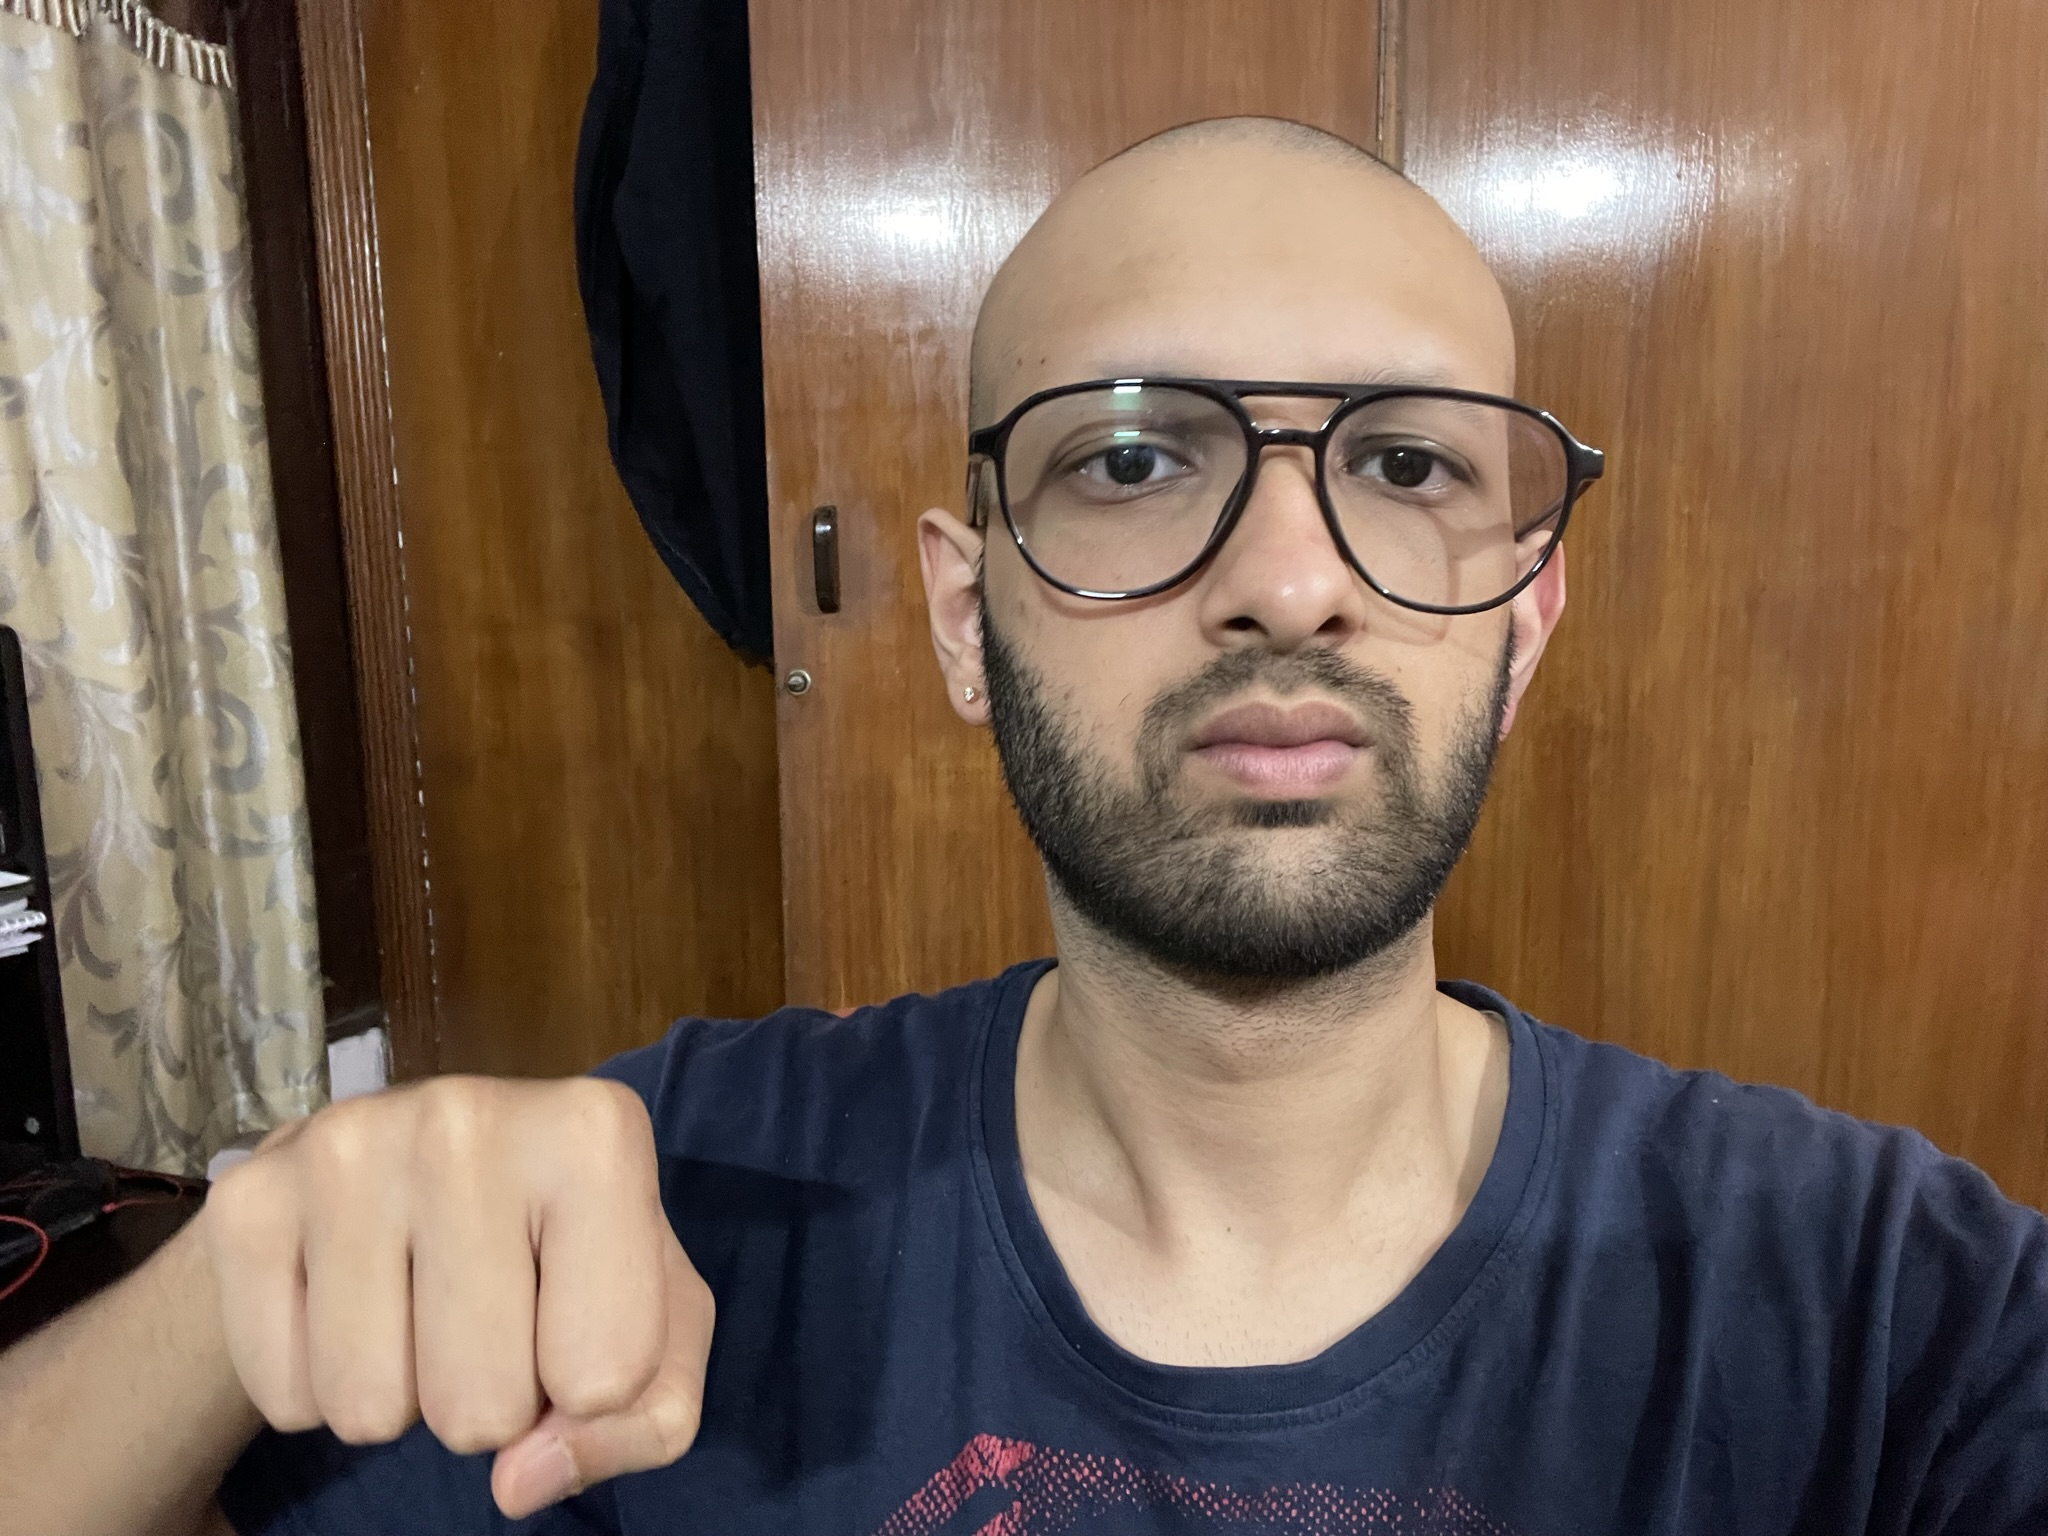Yes: (190, 1071, 734, 1530)
